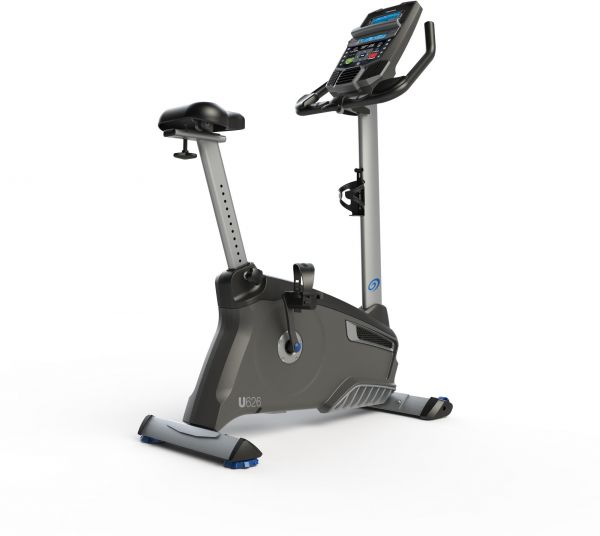gym_bike: (138, 4, 456, 483)
